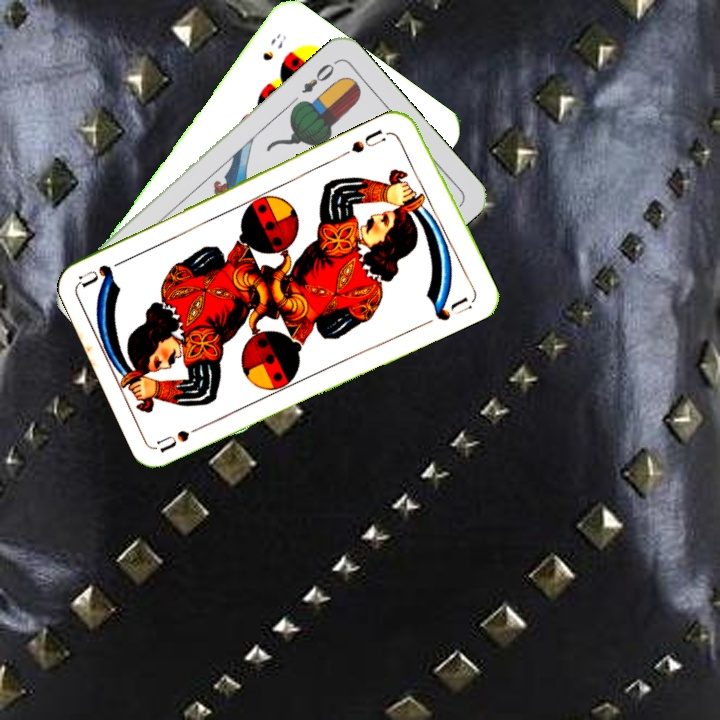EO: (297, 59, 337, 96)
S8: (258, 29, 290, 64)
SU: (154, 418, 212, 455), (340, 125, 389, 158)
